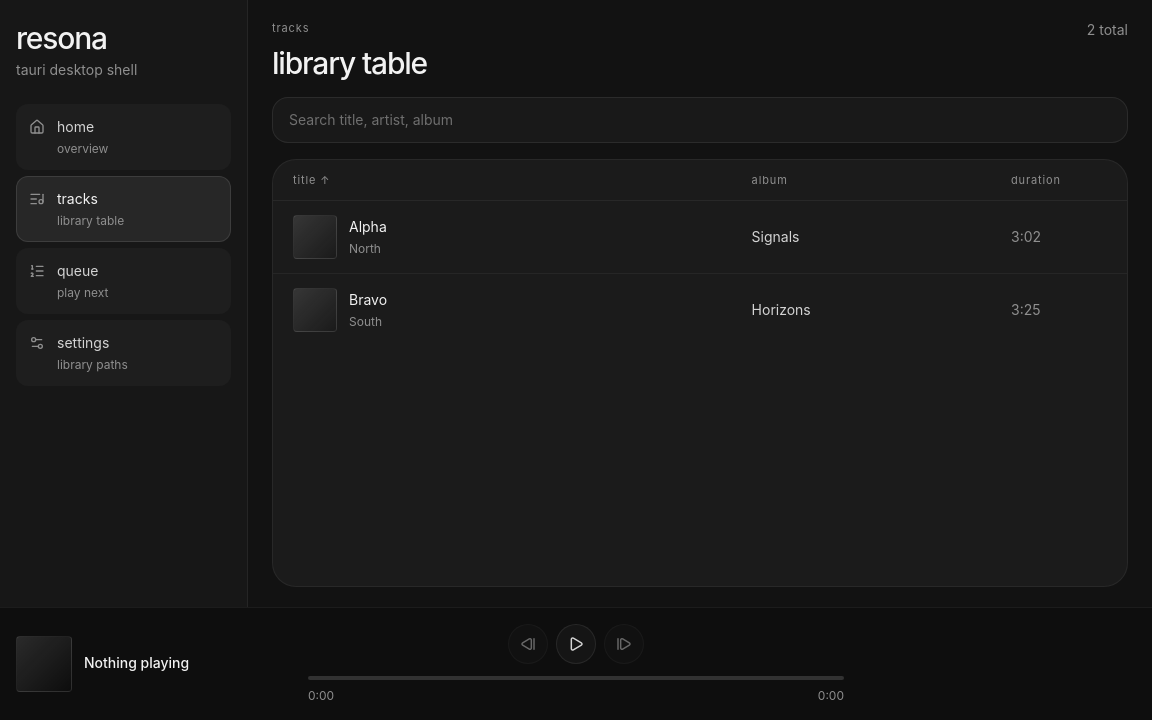
app shell smoke checks › pushes the selected track into the playback shell state
Click the button with aria-label "Select Alpha".
click(315, 237)  # box [273,201,1127,274]
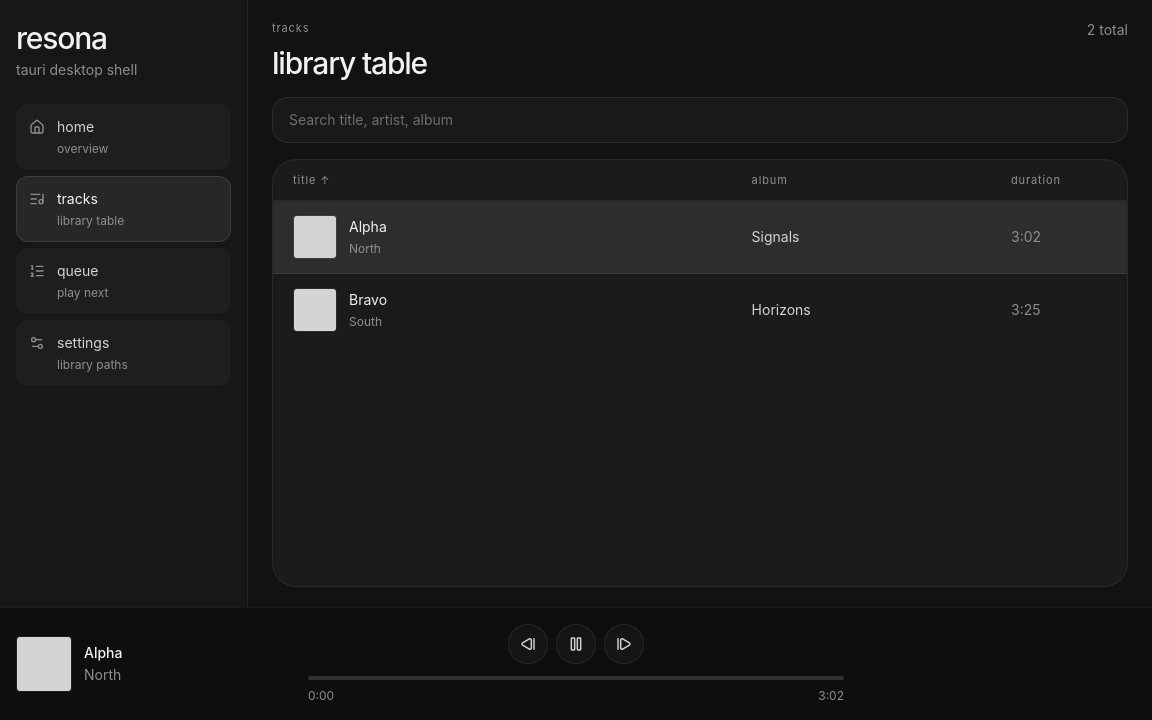
Expected: the button named "Pause playback" is shown, [556,624,596,664]
